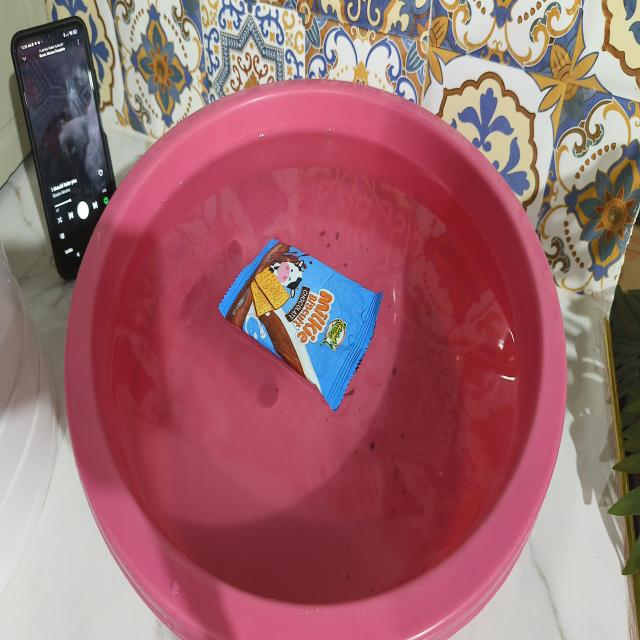Plastic Wrapper: (219, 239, 382, 410)
